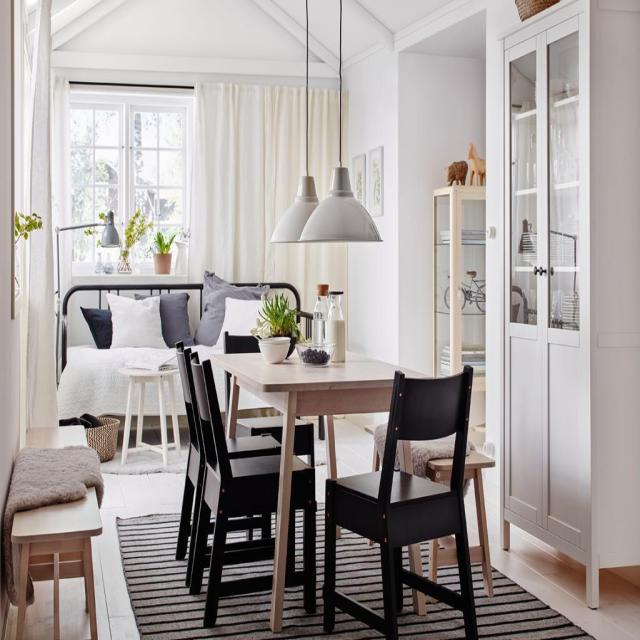obstacle: (177, 337, 479, 640), (497, 0, 640, 602), (9, 416, 100, 635), (114, 350, 180, 467)
